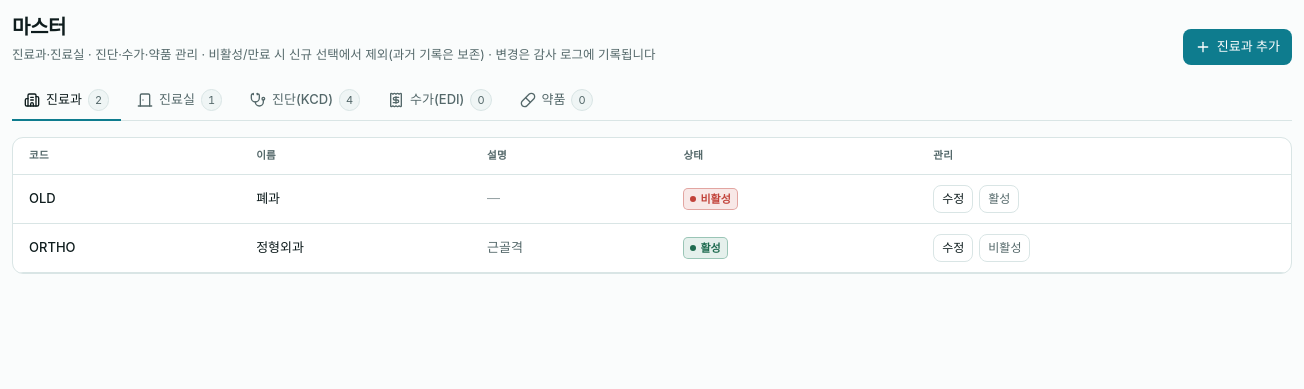
it: MastersManager › 진단 탭 → 시점 상태 배지(유효/만료/발효 전/비활성) 표시
Click the tab "진단(KCD) 4": (305, 101) [238, 81, 372, 121]
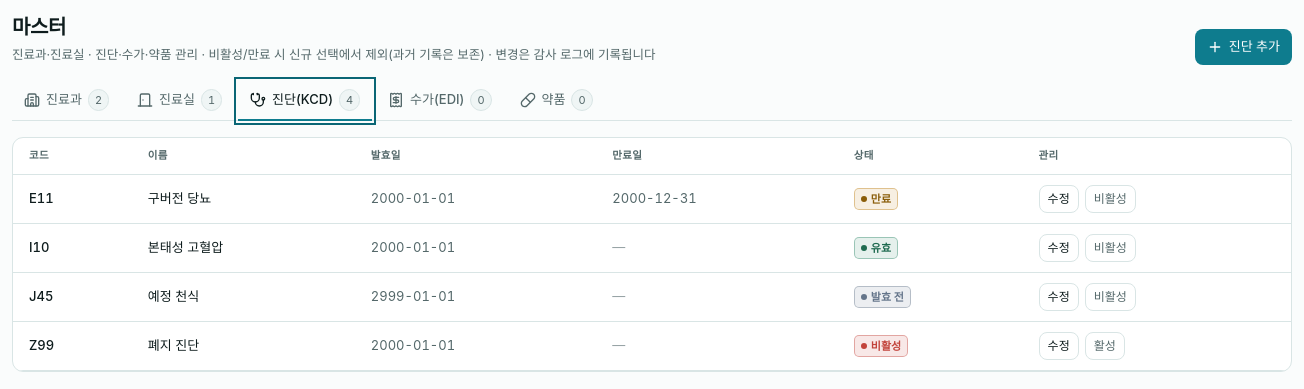
Expected: the text "유효" is shown, [854, 237, 898, 259]
Expected: the text "만료" is shown, [854, 188, 898, 210]
Expected: the text "발효 전" is shown, [854, 286, 911, 308]
